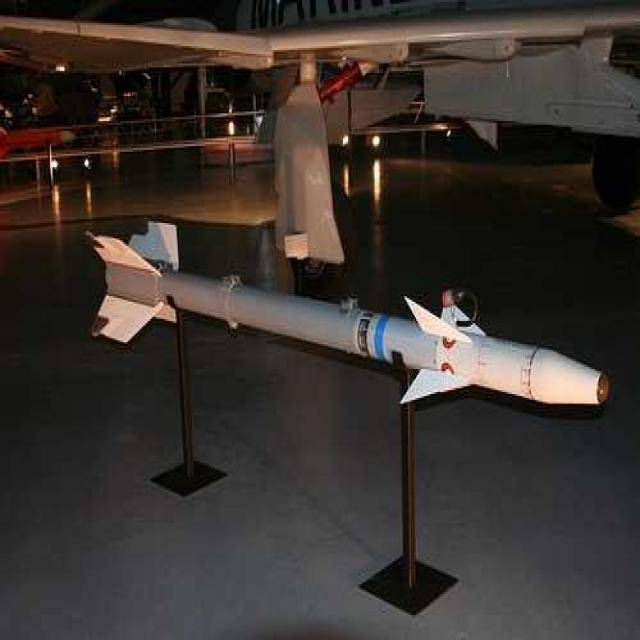missile: (79, 214, 610, 418)
